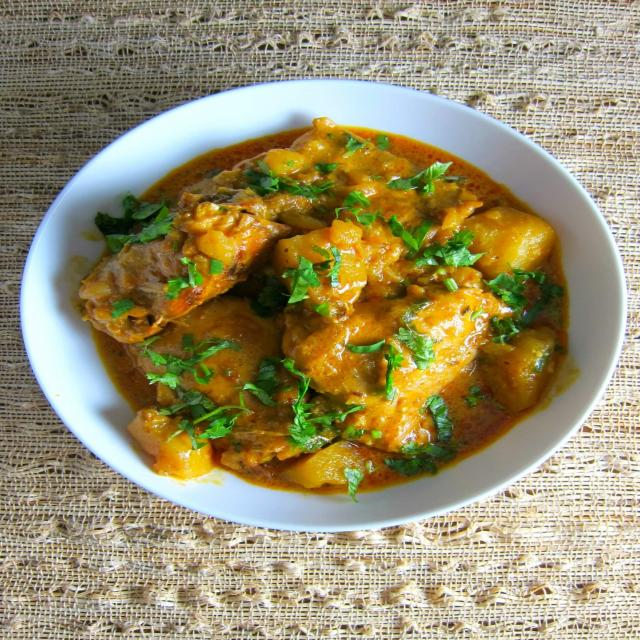chicken: (110, 129, 568, 494)
